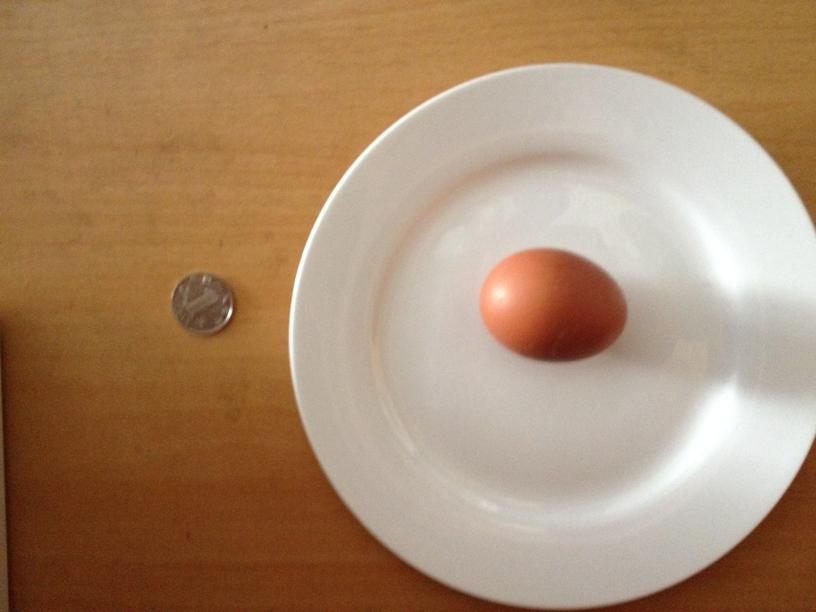coin: (167, 269, 234, 334)
egg: (474, 245, 628, 361)
